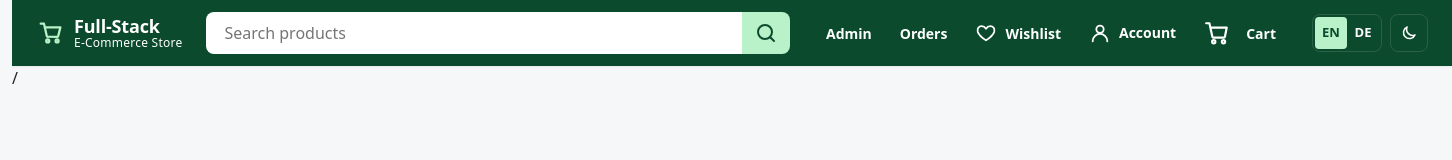
Test: Header component › searches when pressing Enter and encodes the search text
Type "socks & shoes" into the search field with test id "header-search-bar". click: (474, 33)
box: [206,12,742,54]
Then press Enter
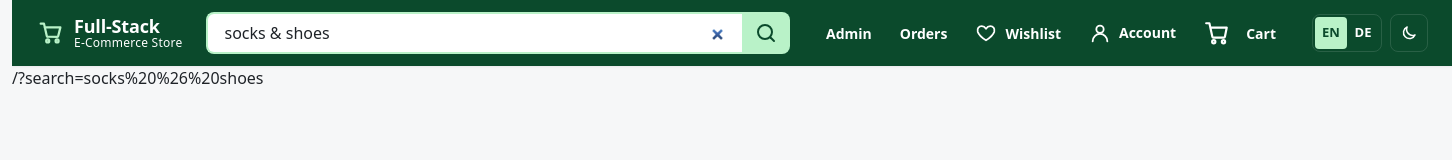
Now the text with test id "current-url" reads "/?search=socks%20%26%20shoes", box [12,67,264,89]
